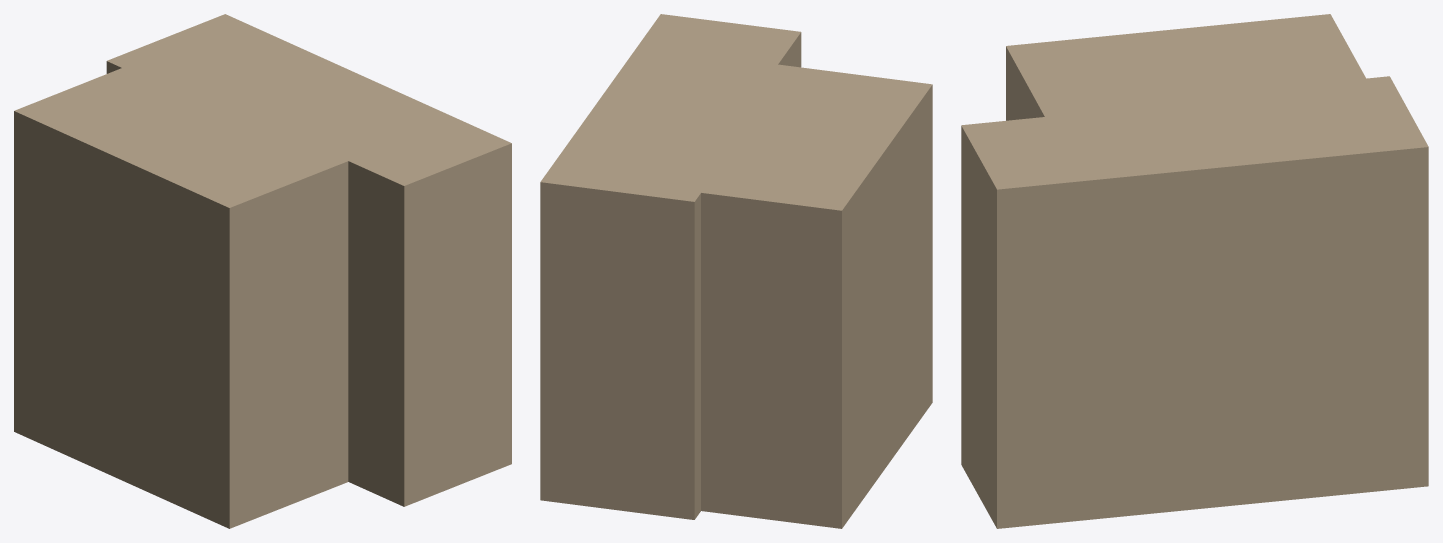
The model's file is bld_106456579.dae.
3 views of the same model, side by side, from view 1: azimuth 30°, elevation 25°; view 2: azimuth 150°, elevation 25°; view 3: azimuth 270°, elevation 25° (orthographic). The views are drawn at different scales.
Visible parts, largest first — view 1: bld_106456579; view 2: bld_106456579; view 3: bld_106456579.
Boxes of the visible parts, box(x1,y1,x2,y2) form: bld_106456579: box(14, 14, 511, 528); bld_106456579: box(540, 14, 932, 528); bld_106456579: box(961, 14, 1428, 528).
Bounding box in the file's own units: 8.88 × 9.99 × 8.
